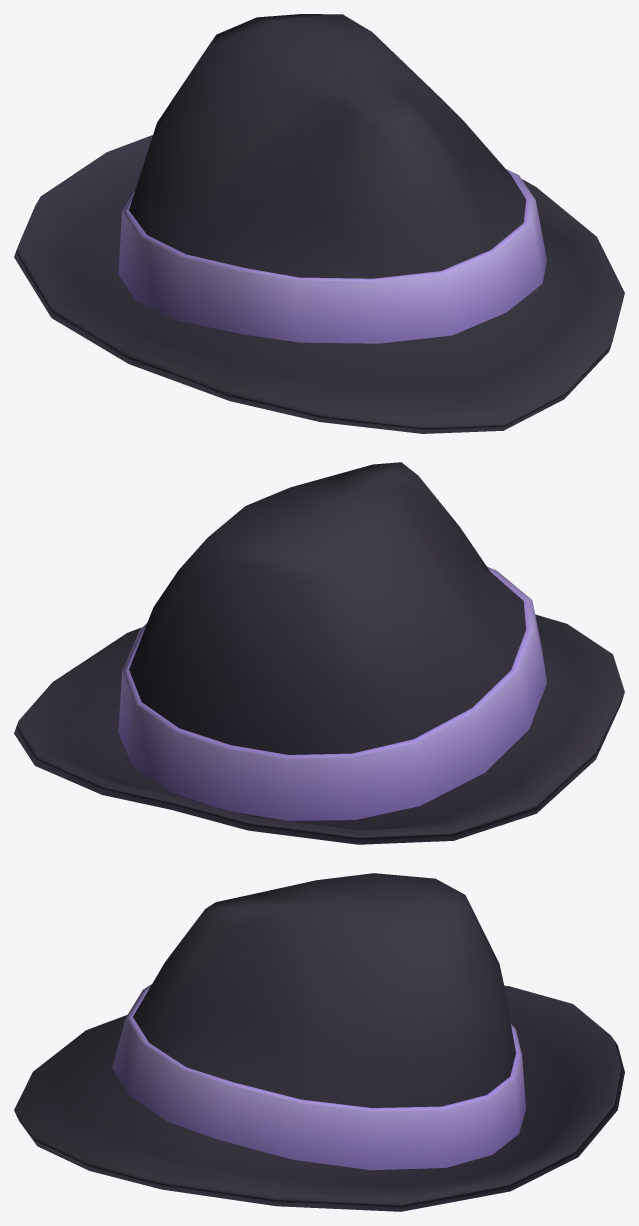
File: hat.glb
3 views of the same model, one above another, from view 1: azimuth 30°, elevation 25°; view 2: azimuth 150°, elevation 25°; view 3: azimuth 270°, elevation 25° (orthographic). The views are drawn at different scales.
Parts seen in each view (by area): view 1: hat3; view 2: hat3; view 3: hat3.
Boxes of the visible parts, <box> form: hat3: <box>14,14,624,433</box>; hat3: <box>14,462,624,844</box>; hat3: <box>14,873,624,1211</box>.
Bounding box in the file's own units: 0.2508 × 0.1193 × 0.3.
Materials: 1 (1 with a texture image).
